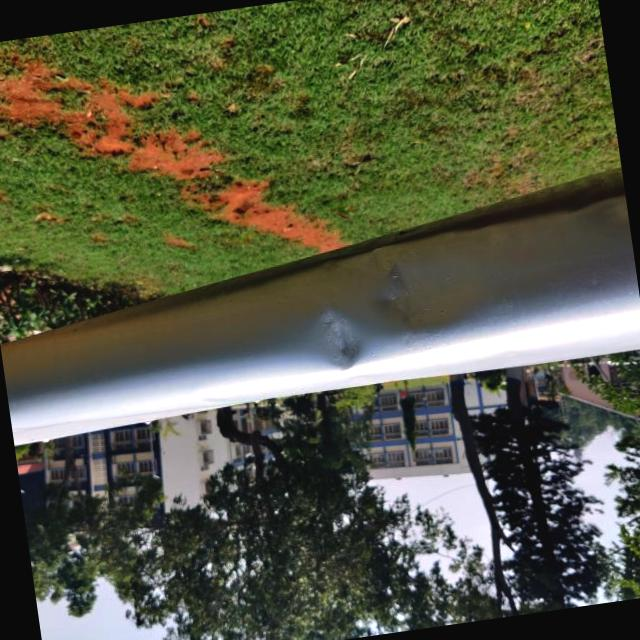dent: (350, 219, 470, 348), (292, 288, 387, 388)
